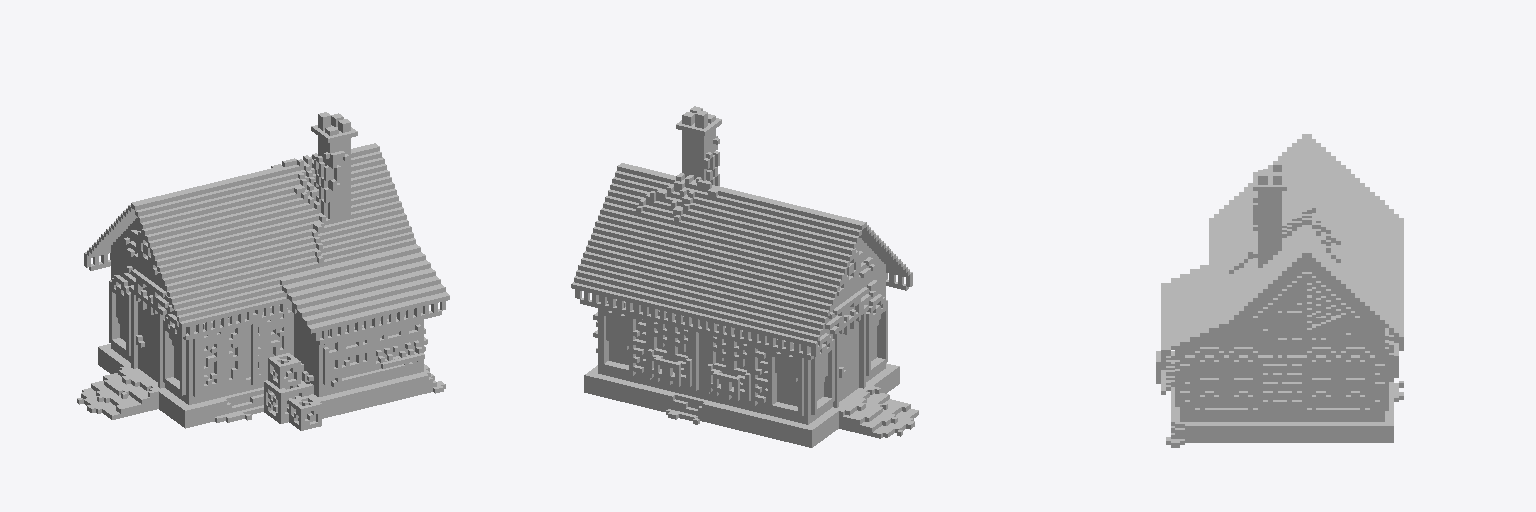
File: villageShack-0.obj
3 renders of one model, left to right at view 1: azimuth 30°, elevation 25°; view 2: azimuth 150°, elevation 25°; view 3: azimuth 270°, elevation 25°, orthographic.
Parts seen in each view (by area): view 1: object 1; view 2: object 1; view 3: object 1.
Part boxes in pixels (left/top/right/bottom): object 1: left=77, top=112, right=449, bottom=430; object 1: left=571, top=106, right=918, bottom=447; object 1: left=1156, top=134, right=1403, bottom=447.
Bounding box in the file's own units: 7.4 × 5.7 × 5.1.